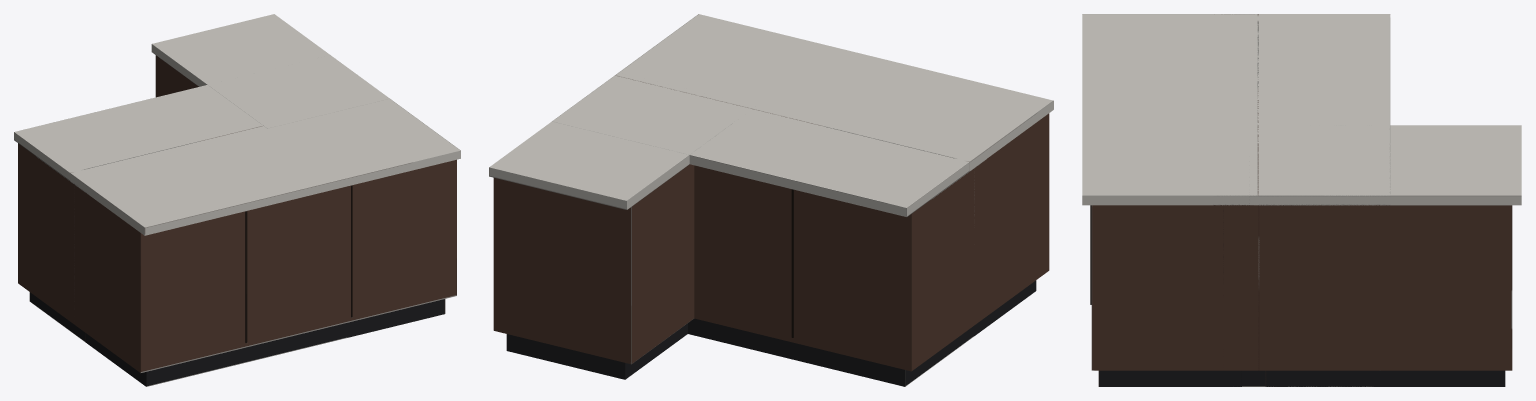
File: gasStationCounters.glb
3 renders of one model, left to right at view 1: azimuth 30°, elevation 25°; view 2: azimuth 150°, elevation 25°; view 3: azimuth 270°, elevation 25°, orthographic. The views are drawn at different scales.
Visible parts, largest first — view 1: Counter_Corner_Arm72in, Counter_Straight_L72in; view 2: Counter_Corner_Arm72in, Counter_Straight_L72in; view 3: Counter_Corner_Arm72in, Counter_Straight_L72in.
Part boxes in pixels (x1,y1,x2,y2): Counter_Corner_Arm72in: (70,14,460,386); Counter_Straight_L72in: (14,55,364,343); Counter_Corner_Arm72in: (489,14,1053,379); Counter_Straight_L72in: (552,60,986,386); Counter_Corner_Arm72in: (1082,14,1521,386); Counter_Straight_L72in: (1213,14,1390,386).
Bounding box in the file's own units: 1.83 × 0.92 × 1.87.
2 materials, 2 textured.
